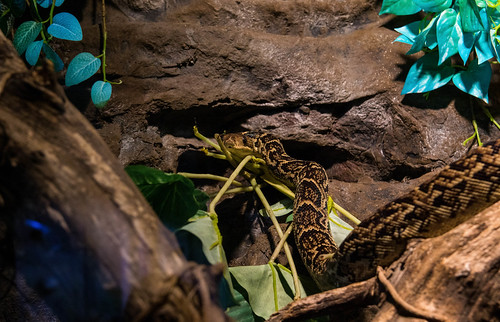animal: (215, 120, 500, 253)
